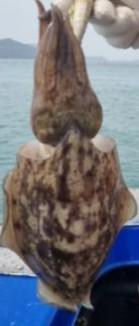Cephalopod: (0, 0, 138, 315)
